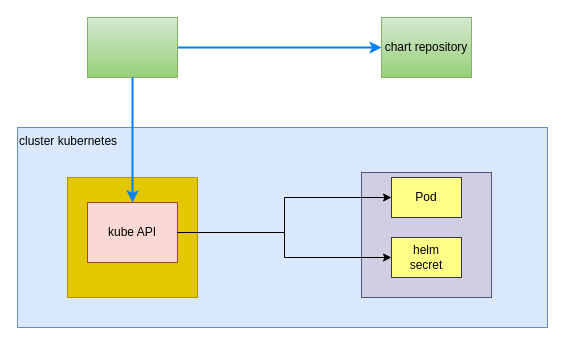
This 565x345 diagram has some shape labels left out. The box of each missing label's shape, as (x1, y1, x2, y2) in pixels:
control plane: (66, 176, 198, 298)
helm client: (86, 16, 178, 78)
namespace: (360, 172, 492, 298)
